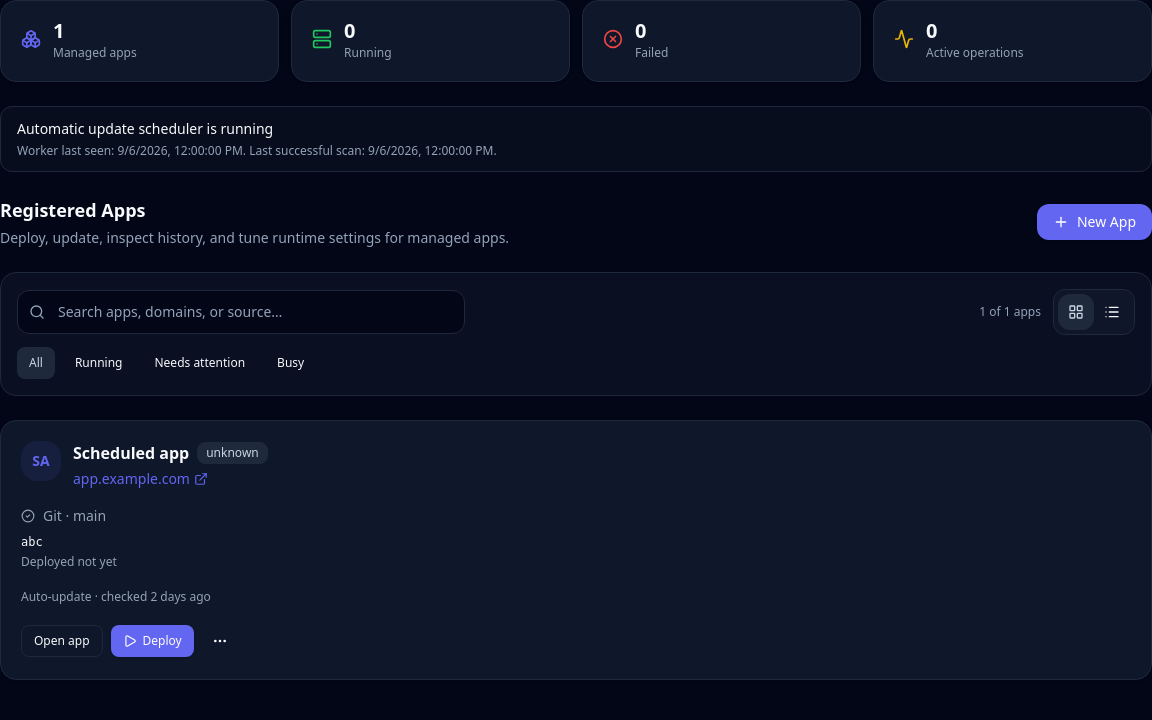
Scenario: Apps automatic status refresh › shows detailed automatic status inside the app workspace
The width and height of the screenshot is (1152, 720).
What coordinates should you click on to do the following:
click the button with aria-label "Open Scheduled app workspace"
I would click on:
 (131, 453)
Its box is left=73, top=441, right=189, bottom=465.
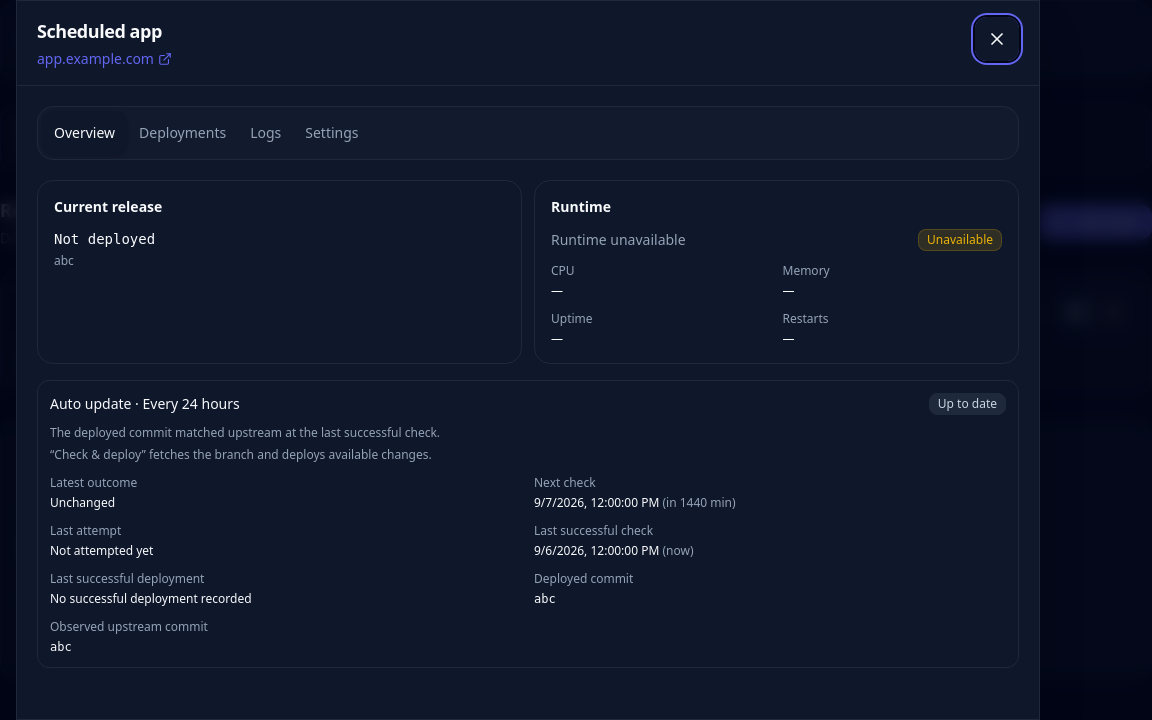
Now the element named "Automatic updates" is shown, box left=37, top=380, right=1019, bottom=668
Now the text "Up to date" is shown, box left=929, top=393, right=1006, bottom=415
